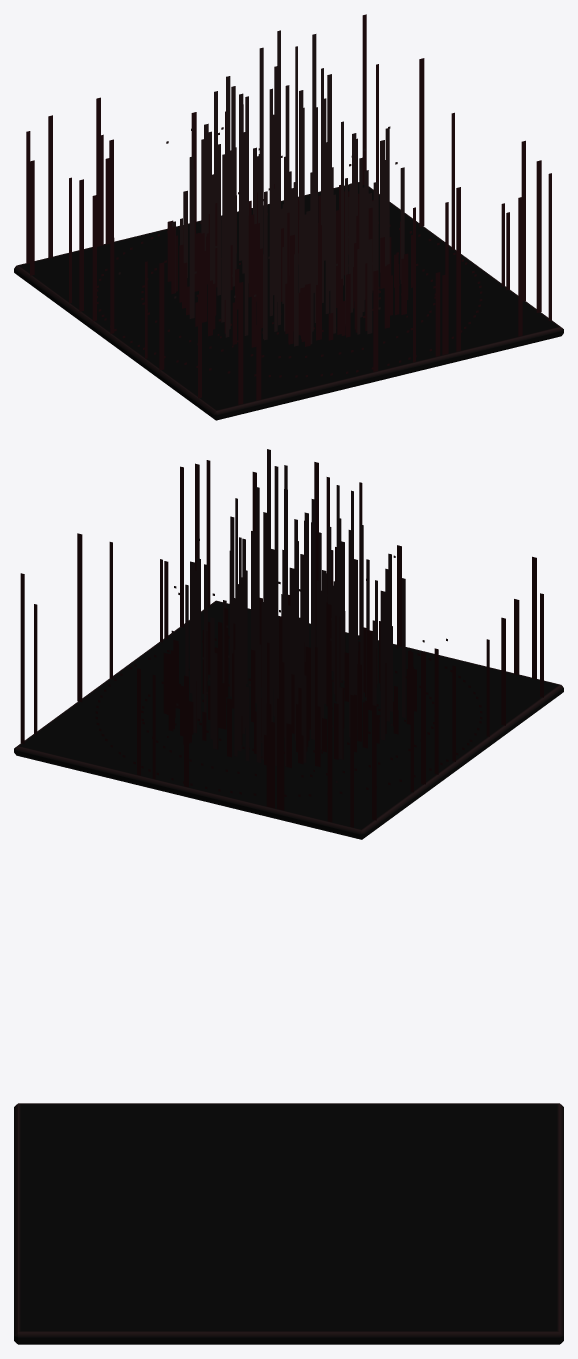
Rendered from black_lair.glb.
3 renders of one model, top to bottom at view 1: azimuth 30°, elevation 25°; view 2: azimuth 150°, elevation 25°; view 3: azimuth 270°, elevation 25°, orthographic. The views are drawn at different scales.
Visible parts, largest first — view 1: black_lair_slab, black_lair_rise, black_lair_thorns, black_lair_mound, black_lair_heart, black_lair_signs; view 2: black_lair_slab, black_lair_rise, black_lair_thorns, black_lair_mound, black_lair_signs, black_lair_heart; view 3: black_lair_slab.
Boxes of the visible parts, x1,y1,x2,y2 form: black_lair_slab: [14, 182, 563, 420]; black_lair_rise: [172, 30, 404, 346]; black_lair_thorns: [26, 14, 551, 404]; black_lair_mound: [167, 184, 412, 347]; black_lair_heart: [273, 171, 306, 303]; black_lair_signs: [97, 213, 482, 377]; black_lair_slab: [14, 600, 563, 839]; black_lair_rise: [185, 449, 405, 765]; black_lair_thorns: [20, 460, 543, 827]; black_lair_mound: [163, 594, 416, 767]; black_lair_signs: [95, 636, 482, 796]; black_lair_heart: [273, 594, 300, 716]; black_lair_slab: [14, 1103, 563, 1344].
Bounding box in the file's own units: 4 × 2.92 × 4.
